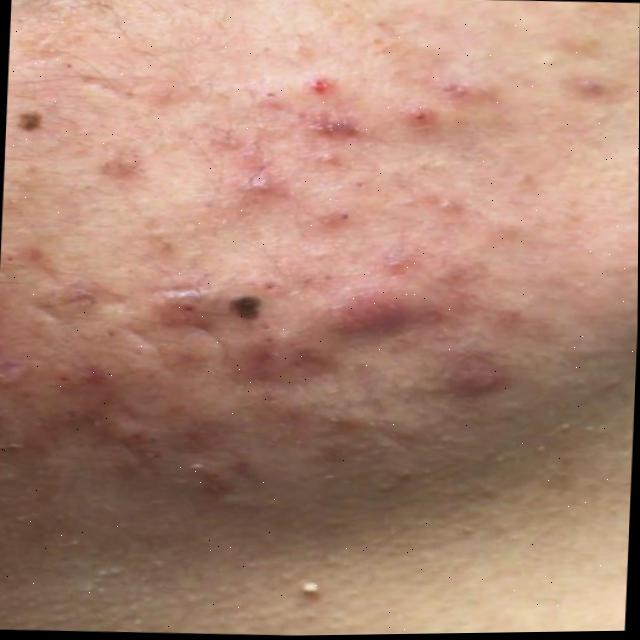Acne: (0, 40, 503, 494)
